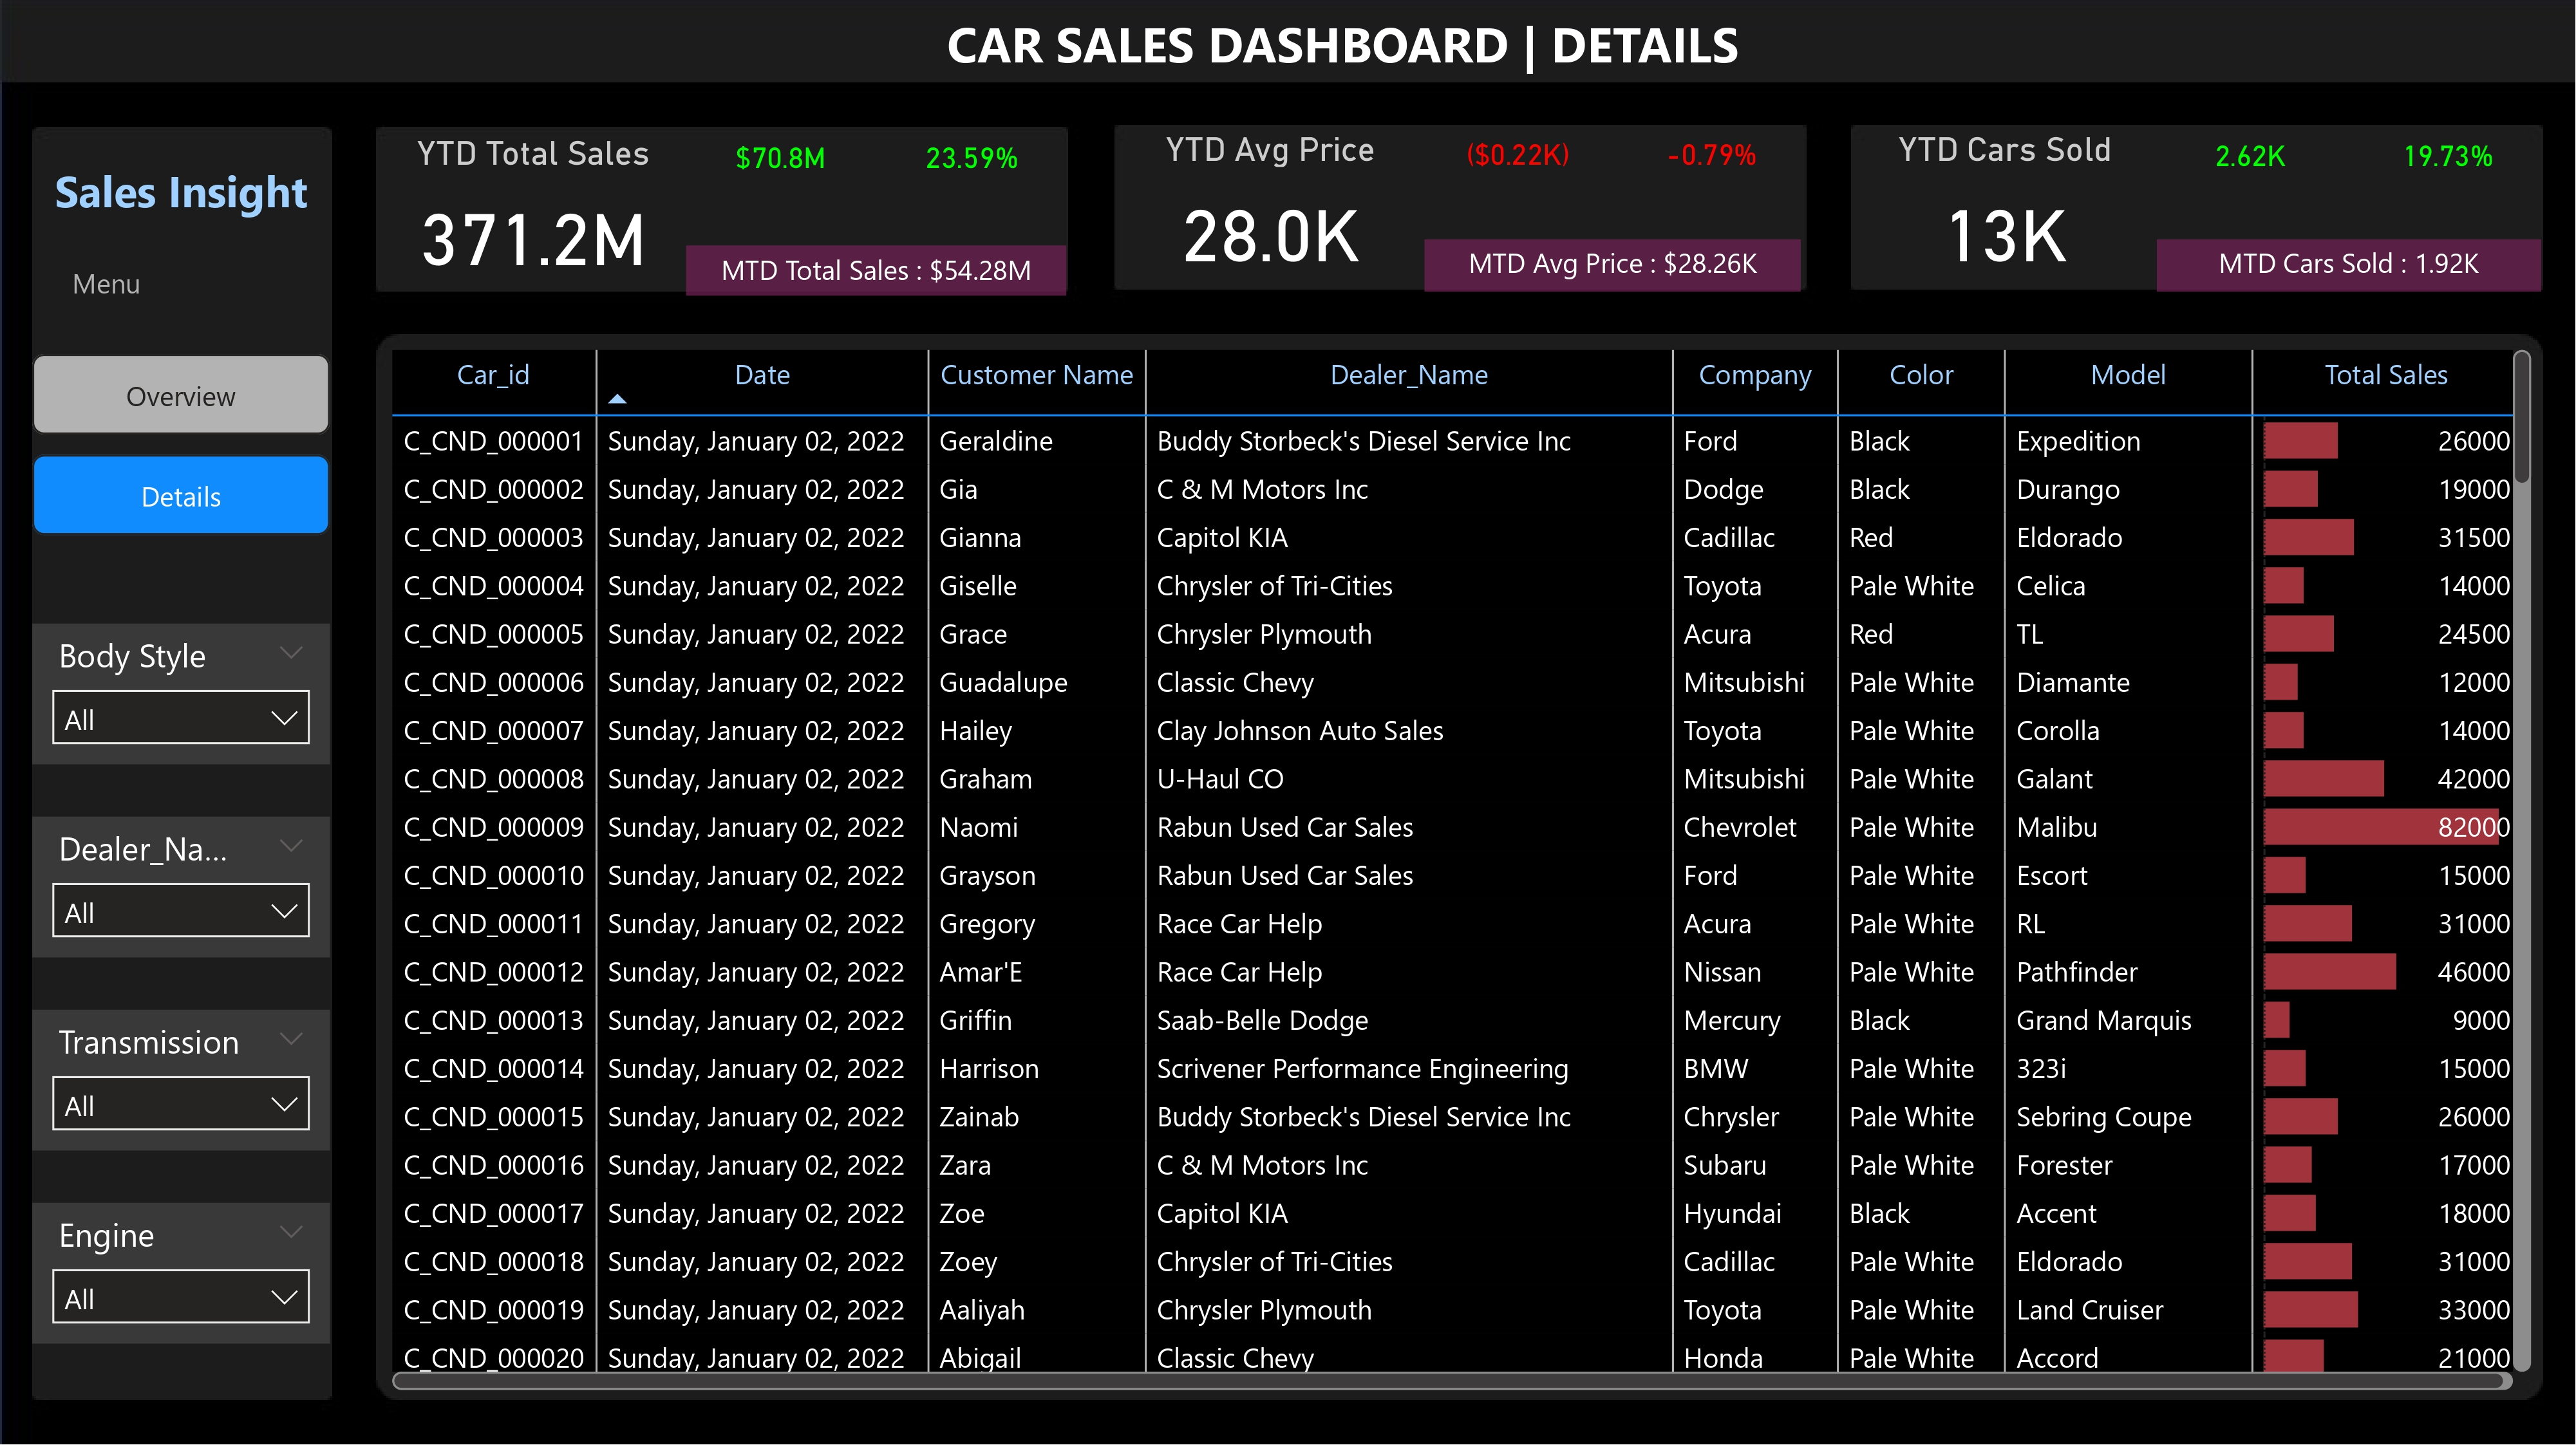

Layout of this report page (visuals, bound fields, positions):
{"tool":"powerbi","page":{"name":"Details","canvas":[1280,720],"ordinal":1},"visuals":[{"type":"card","title":"YTD Total Sales","fields":{"Values":["car_data.YTD Total Sales"]},"box":[189.1,65.7,151.7,81.7],"z":0},{"type":"card","fields":{"Values":["car_data.Sales Difference"]},"box":[340.9,65.7,93.9,27.4],"z":1000},{"type":"card","fields":{"Values":["car_data.YoY Sales Growth"]},"box":[435.9,65.6,94.1,27.4],"z":2000},{"type":"card","fields":{"Values":["car_data.MTD KPI"]},"box":[340.9,121.7,189.1,25.7],"z":3000},{"type":"card","title":"YTD Avg Price","fields":{"Values":["car_data.YTD Avg Price"]},"box":[555.7,64.3,151.1,81.1],"z":4000},{"type":"card","fields":{"Values":["car_data.Avg Price Diff"]},"box":[707.6,64.3,93,27.6],"z":5000},{"type":"card","fields":{"Values":["car_data.YoY Avg Price Growth"]},"box":[803.8,64.3,93,27.6],"z":6000},{"type":"card","fields":{"Values":["car_data.MTD Avg Price KPI"]},"box":[707.6,119.2,187.6,25.9],"z":7000},{"type":"card","title":"YTD Cars Sold","fields":{"Values":["car_data.YTD Cars Sold"]},"box":[921.1,64.3,151.1,81.1],"z":8000},{"type":"card","fields":{"Values":["car_data.Cars Sold Diff"]},"box":[1072.2,64.5,93,27.8],"z":9000},{"type":"card","fields":{"Values":["car_data.MTD Cars Sold KPI"]},"box":[1072.2,119.2,191,25.8],"z":10000},{"type":"card","fields":{"Values":["car_data.YoY Cars Sold Growth"]},"box":[1170.2,64.5,93,27.5],"z":11000},{"type":"textbox","box":[440,0,455,45],"z":12000},{"type":"slicer","fields":{"Values":["car_data.Body Style"]},"box":[15.9,310,147.6,70],"z":13000},{"type":"slicer","fields":{"Values":["car_data.Dealer_Name"]},"box":[15.9,405.9,147.6,70],"z":14000},{"type":"slicer","fields":{"Values":["car_data.Transmission"]},"box":[15.9,501.8,147.6,70],"z":15000},{"type":"slicer","fields":{"Values":["car_data.Engine"]},"box":[15.9,597.6,147.6,70],"z":16000},{"type":"pageNavigator","box":[16,175.5,147.5,90],"z":17000},{"type":"textbox","box":[15.9,74.5,147.7,42.3],"z":18000},{"type":"textbox","box":[15.8,126.8,74.2,31.1],"z":19000},{"type":"tableEx","fields":{"Values":["car_data.Car_id","car_data.Date","car_data.Customer Name","car_data.Dealer_Name","car_data.Company","car_data.Color","car_data.Model","car_data.Total Sales"]},"box":[188.7,169.1,1073.9,527],"z":20000}]}

Visuals, with their boxes in screenshot pixels (x1, y1, x2, y2), scaled from the page's 1280x720 canvas onto the 2576x1445 screenshot:
"YTD Total Sales" card: l=381, t=132, r=686, b=296
card - car_data.Sales Difference: l=686, t=132, r=875, b=187
card - car_data.YoY Sales Growth: l=878, t=132, r=1067, b=187
card - car_data.MTD KPI: l=686, t=244, r=1067, b=296
"YTD Avg Price" card: l=1118, t=129, r=1422, b=292
card - car_data.Avg Price Diff: l=1424, t=129, r=1612, b=185
card - car_data.YoY Avg Price Growth: l=1618, t=129, r=1805, b=185
card - car_data.MTD Avg Price KPI: l=1424, t=239, r=1801, b=291
"YTD Cars Sold" card: l=1854, t=129, r=2158, b=292
card - car_data.Cars Sold Diff: l=2158, t=129, r=2345, b=185
card - car_data.MTD Cars Sold KPI: l=2158, t=239, r=2542, b=291
card - car_data.YoY Cars Sold Growth: l=2355, t=129, r=2542, b=185
textbox: l=885, t=0, r=1801, b=90
slicer - car_data.Body Style: l=32, t=622, r=329, b=763
slicer - car_data.Dealer_Name: l=32, t=815, r=329, b=955
slicer - car_data.Transmission: l=32, t=1007, r=329, b=1148
slicer - car_data.Engine: l=32, t=1199, r=329, b=1340
pageNavigator: l=32, t=352, r=329, b=533
textbox: l=32, t=149, r=329, b=234
textbox: l=32, t=254, r=181, b=317
tableEx - car_data.Car_id x car_data.Date: l=380, t=339, r=2541, b=1397
